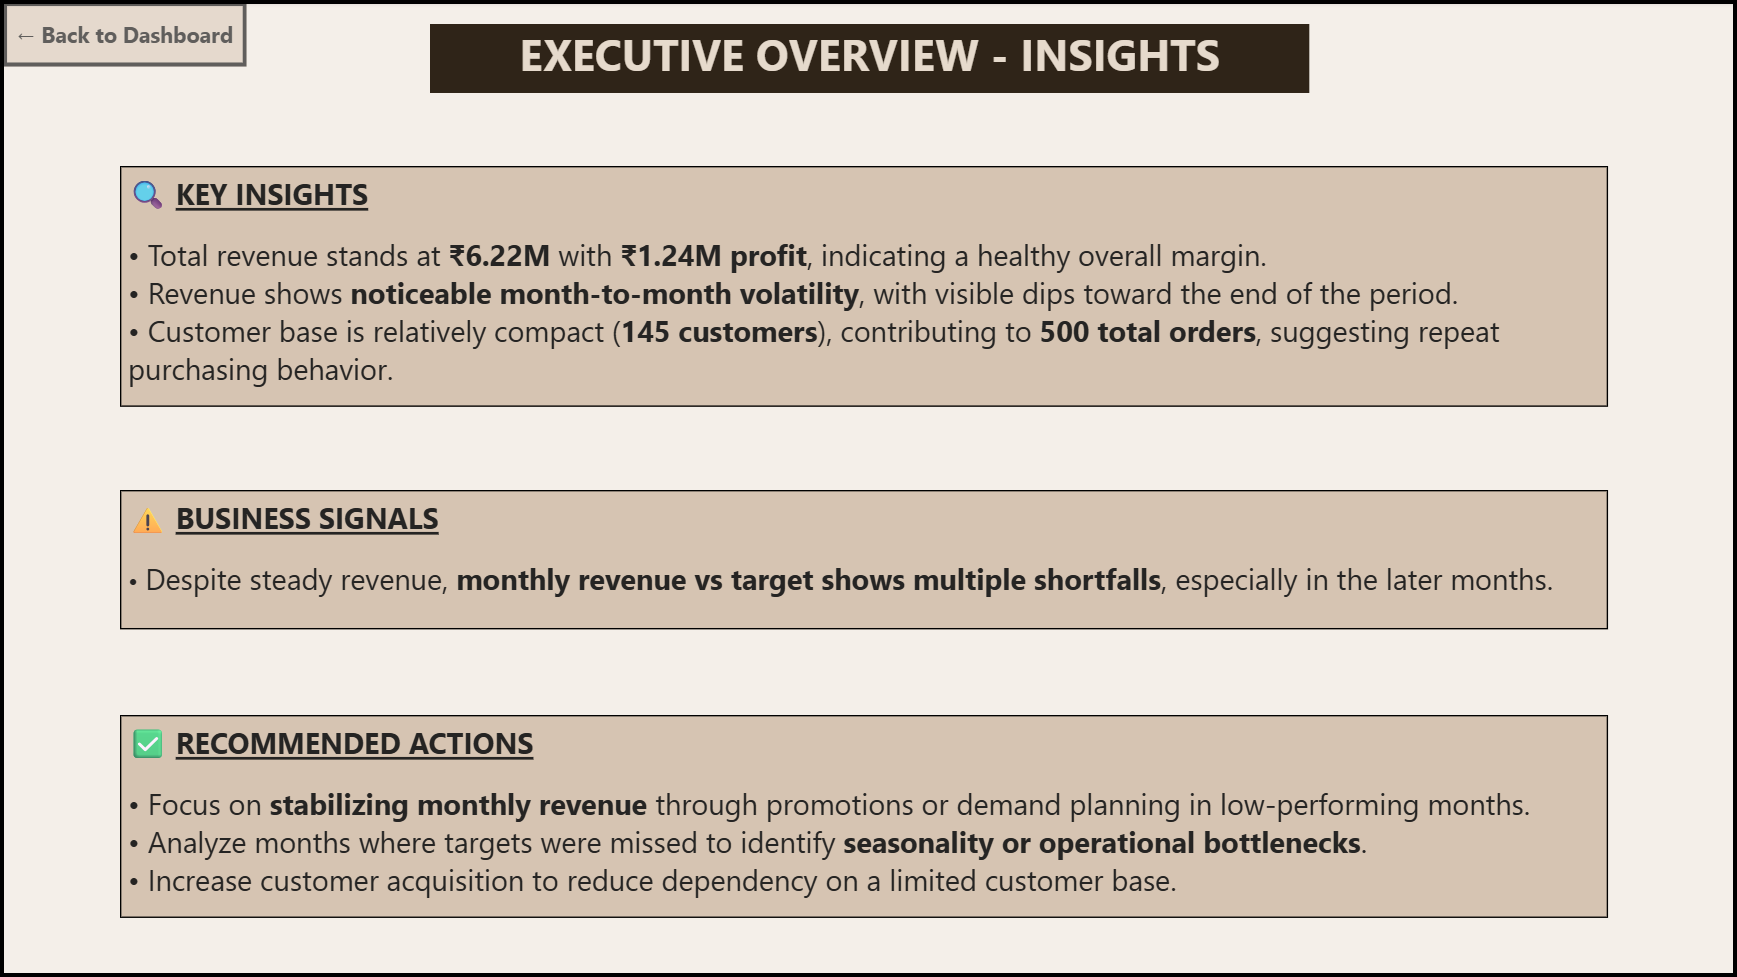

The dashboard page shown, as its layout file describes it:
{"tool":"powerbi","page":{"name":"Executive Overview Insights","canvas":[1280,720],"ordinal":1},"visuals":[{"type":"textbox","title":"EXECUTIVE OVERVIEW - INSIGHTS","box":[315.4,15.9,650.2,51.2],"z":0},{"type":"textbox","box":[86.6,121,1099.8,178.4],"z":1000},{"type":"textbox","box":[86.6,360.4,1099.8,103.4],"z":2000},{"type":"textbox","box":[86.7,527.4,1100,150],"z":3000},{"type":"actionButton","title":"← Back to Dashboard","box":[0,0,180.2,47.7],"z":4000}]}

Visuals, with their boxes in screenshot pixels (x1, y1, x2, y2), scaled from the page's 1280x720 canvas onto the 1737x977 screenshot:
"EXECUTIVE OVERVIEW - INSIGHTS" textbox: [428, 22, 1310, 91]
textbox: [118, 164, 1610, 406]
textbox: [118, 489, 1610, 629]
textbox: [118, 716, 1610, 919]
"← Back to Dashboard" actionButton: [0, 0, 245, 65]
